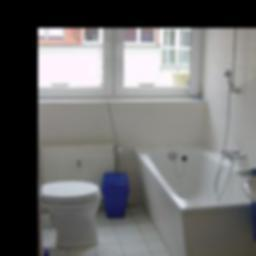Bote de Basura: (104, 170, 131, 220)
Lavamanos: (246, 175, 256, 220)
Sanitario: (42, 179, 104, 247)
